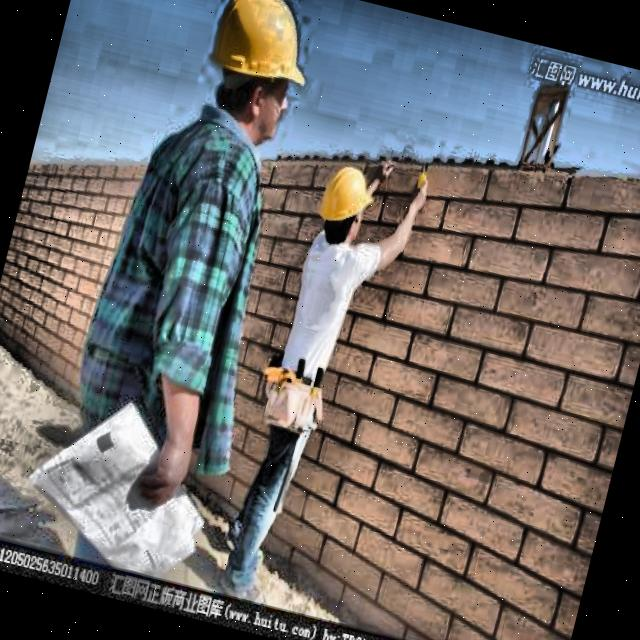helmet: (183, 0, 333, 163), (309, 153, 381, 254)
